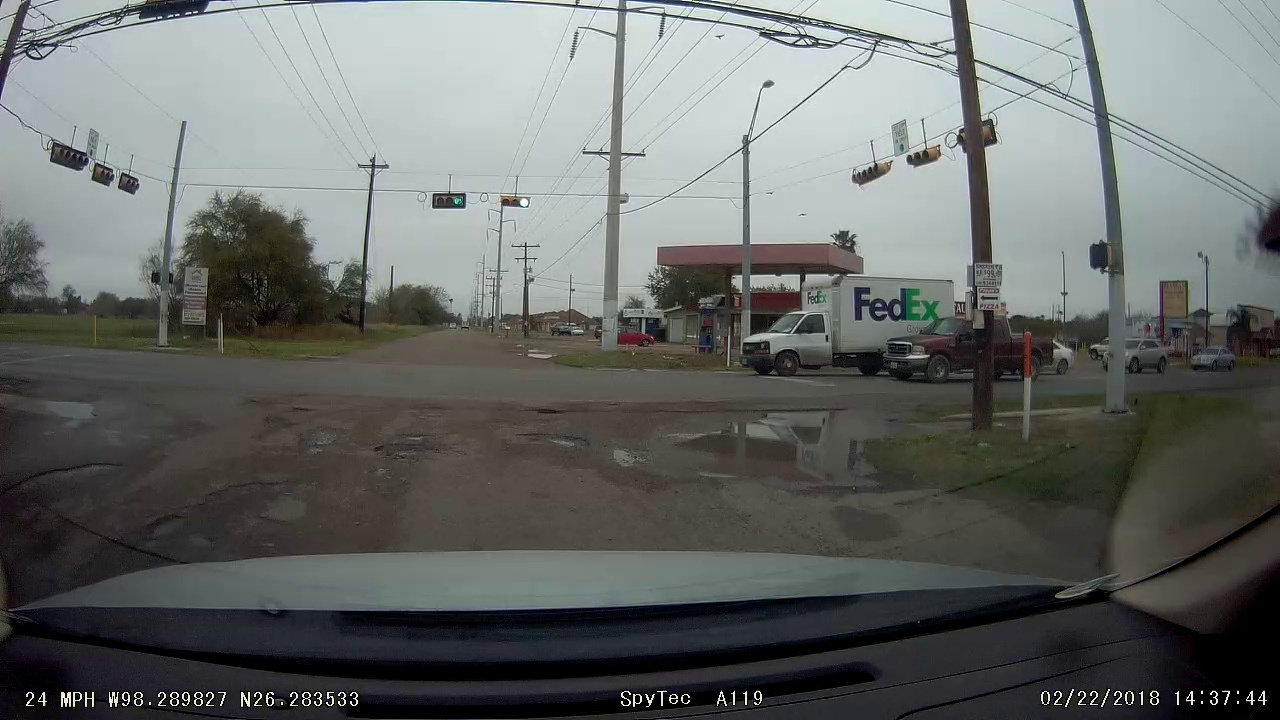pothole: (371, 428, 476, 472), (506, 425, 594, 456), (517, 402, 573, 416)
